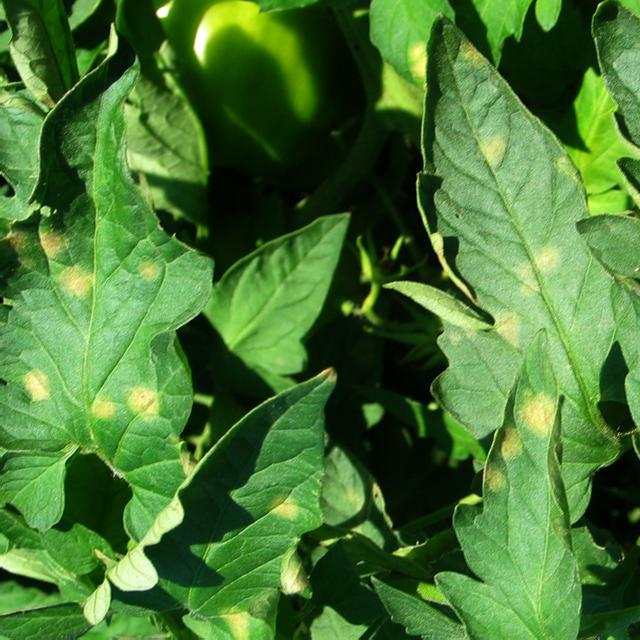Tomato mold leaf: (369, 21, 640, 477), (0, 55, 193, 551), (94, 384, 342, 640), (453, 327, 583, 640), (581, 0, 640, 304), (611, 241, 640, 640)
